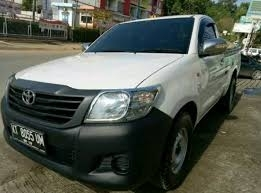plate: (11, 122, 44, 149)
